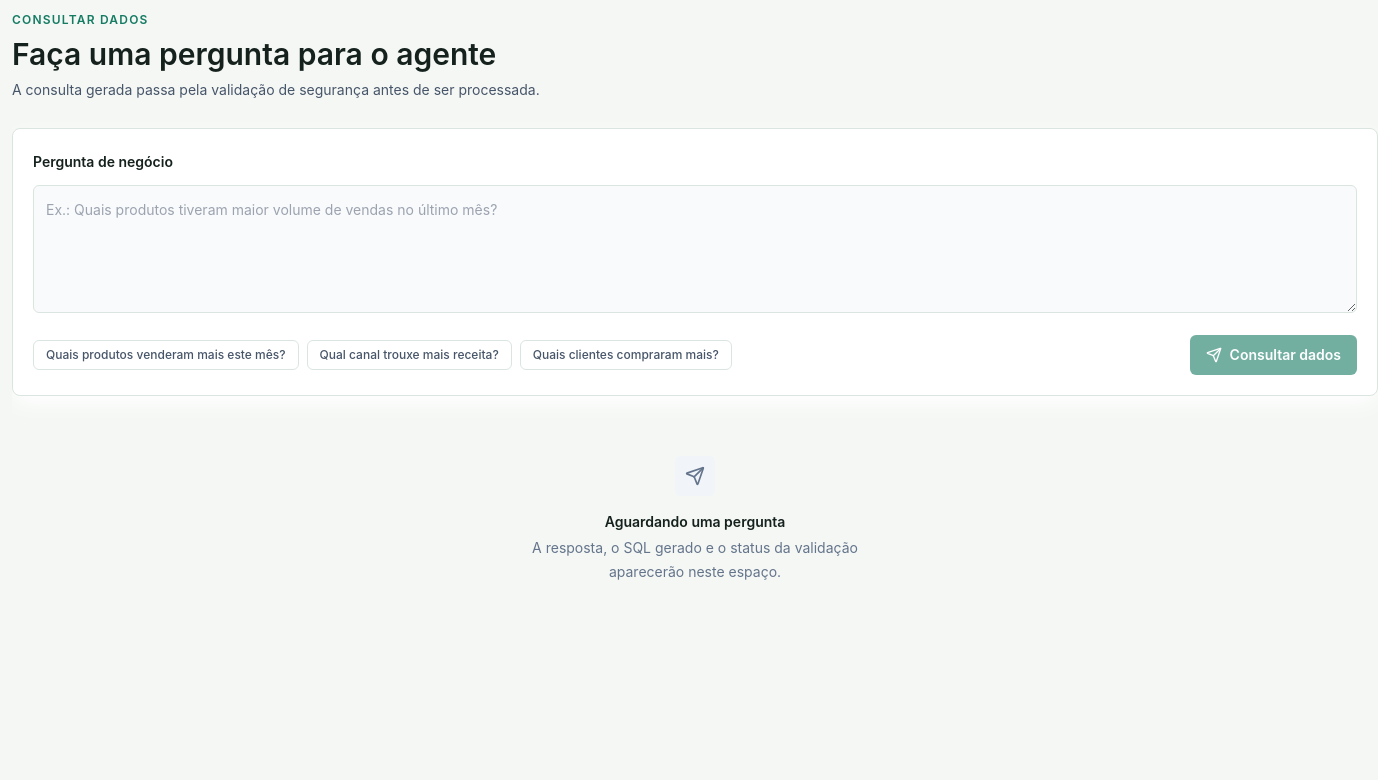
Test: AskDataPage › asks for clarification without presenting SQL
In the text box labelled "Pergunta de negócio": (695, 249) [33,185,1357,313], type "Mostre as vendas"
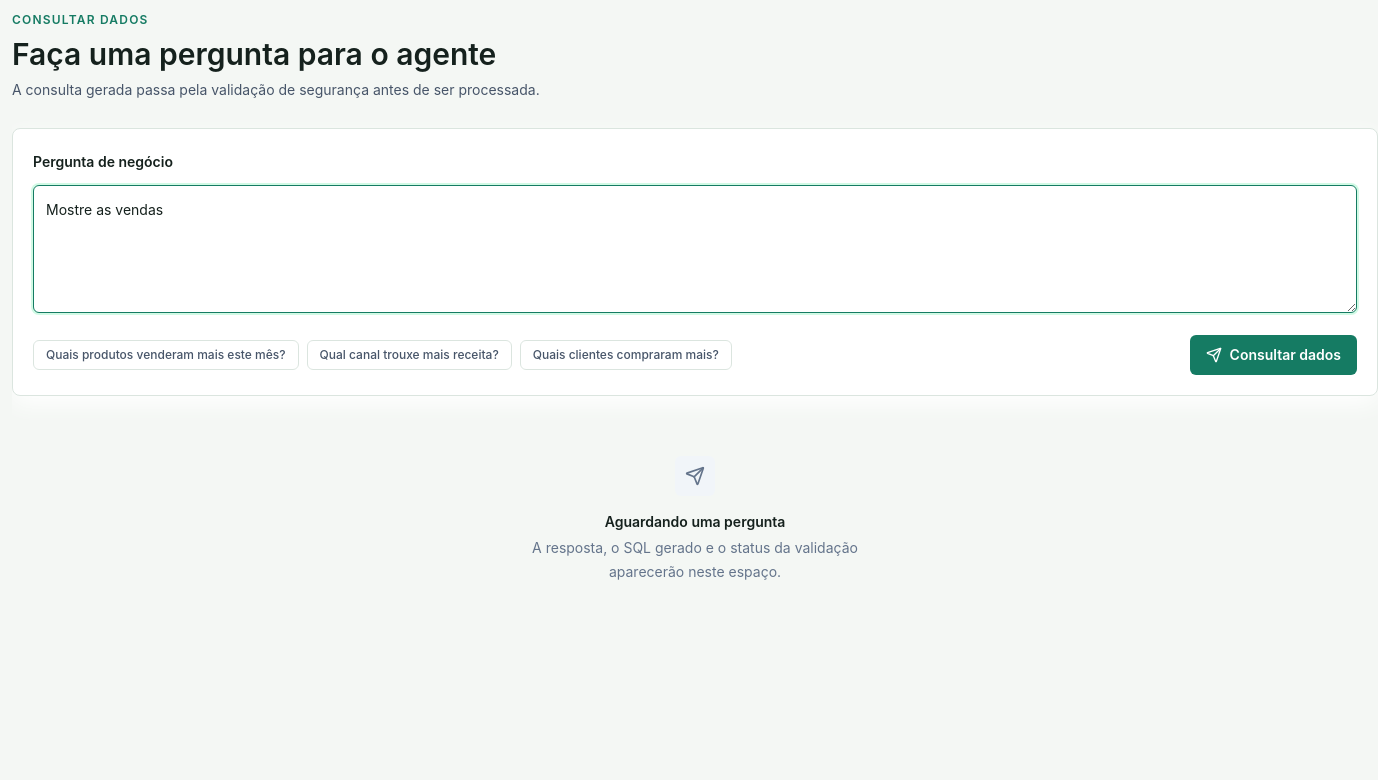
Click the button "Consultar dados": (1273, 355) [1190,335,1357,375]
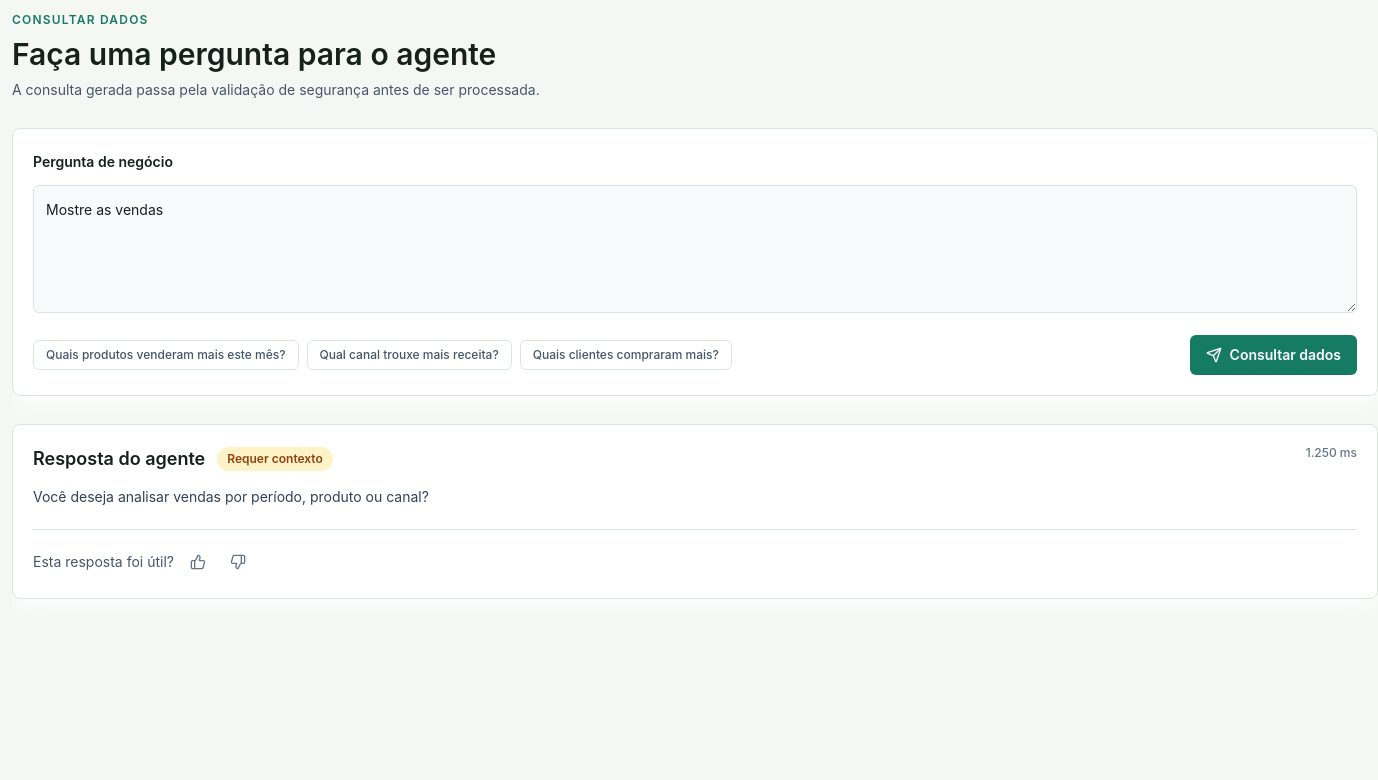
Result: the text "Requer contexto" is shown at [217,447,333,471]
Result: the text "Você deseja analisar vendas por período, produto ou canal?" is shown at [33,485,429,509]
Result: the text "SQL gerado" is gone
